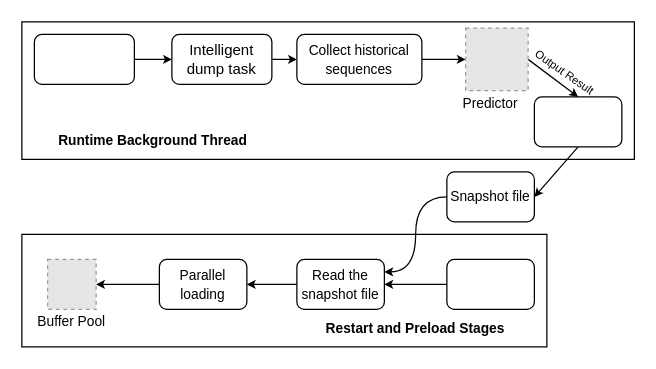
Some shapes in this 656 by 369 pixel diagram are drawn without their labels. Grey dashed boxes stand in for pictures. Each missing label, with the centre of its shape:
"Database startup" belongs at pixel 490 283.
"Timer triggered" belongs at pixel 83 58.
"Write snapshot" belongs at pixel 577 121.
